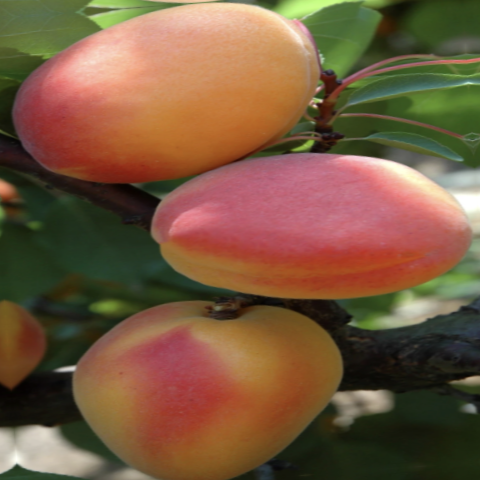mango: (44, 269, 372, 480), (0, 0, 348, 197), (141, 123, 479, 325)
